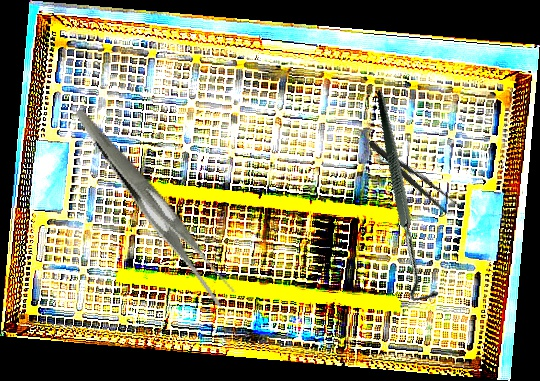Dressing Forceps: (74, 81, 239, 331), (363, 135, 466, 221)
Hook Surgical: (321, 89, 492, 308)
